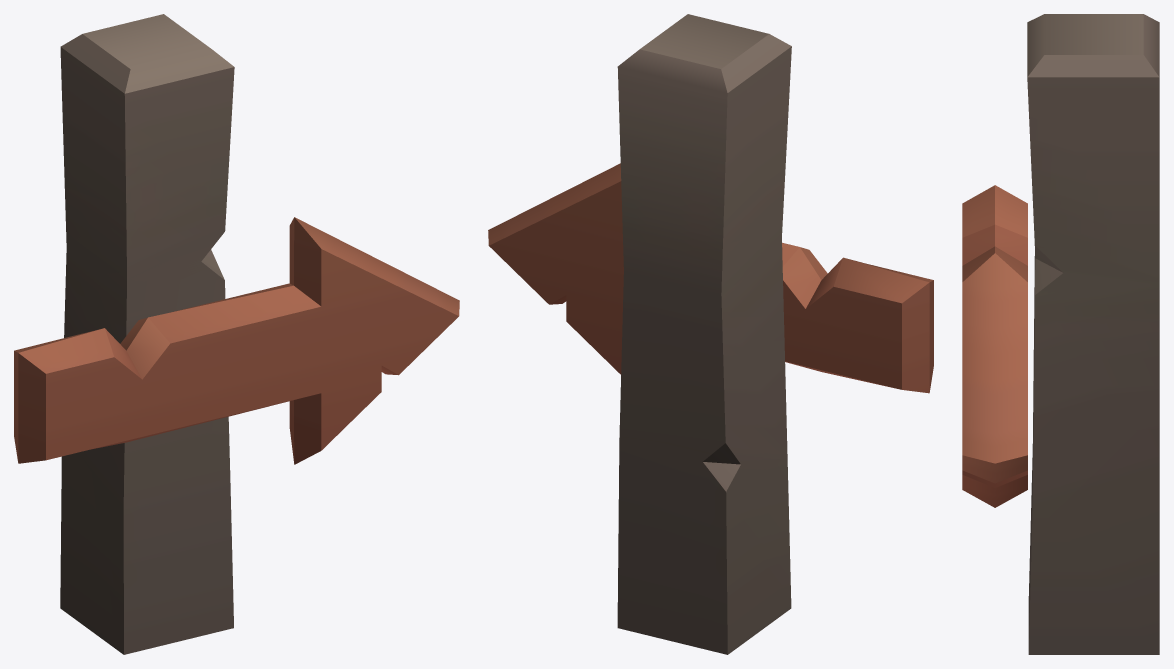
File: sign_right.glb
3 renders of one model, left to right at view 1: azimuth 30°, elevation 25°; view 2: azimuth 150°, elevation 25°; view 3: azimuth 270°, elevation 25°, orthographic. The views are drawn at different scales.
Visible parts, largest first — view 1: sign_right; view 2: sign_right; view 3: sign_right.
Part boxes in pixels (x1,y1,x2,y2): sign_right: [14, 14, 459, 654]; sign_right: [488, 14, 933, 654]; sign_right: [962, 14, 1159, 654].
Size of the model in its own units: 1.6 by 2 by 0.6026.
Materials: 1 (1 with a texture image).
